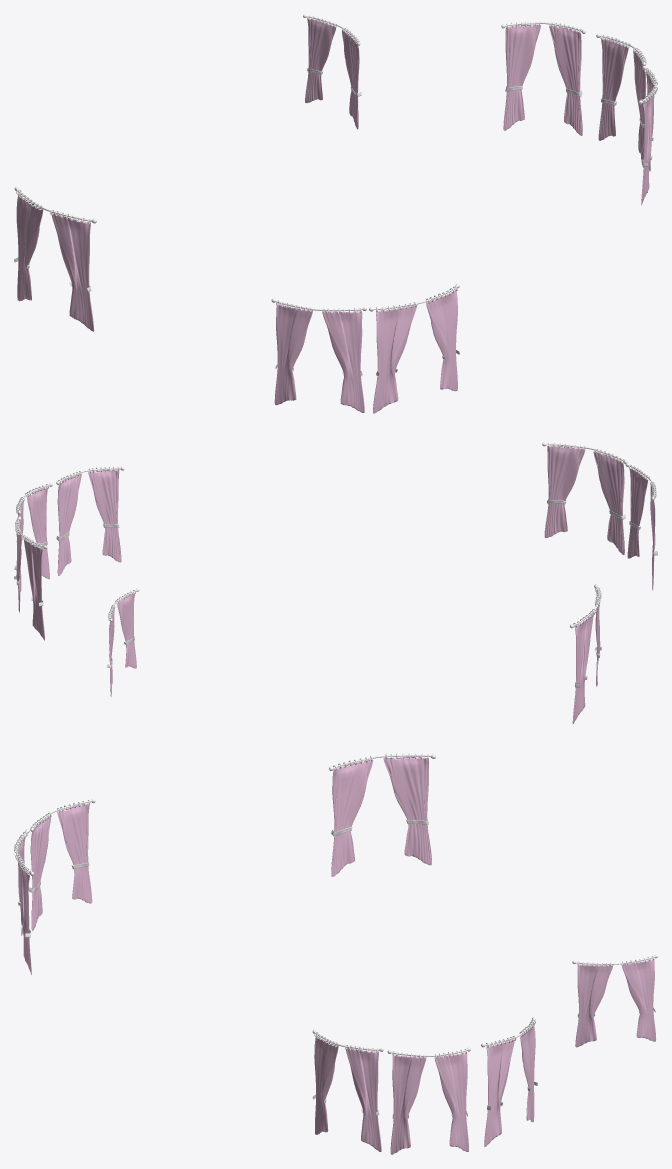
Rendered from verhot.fbx.
3 renders of one model, top to bottom at view 1: azimuth 30°, elevation 25°; view 2: azimuth 150°, elevation 25°; view 3: azimuth 270°, elevation 25°, orthographic. The views are drawn at different scales.
Parts seen in each view (by area): view 1: Collection 1.001|curtain.001|Dupli|, curtain.001, Collection 1.002|curtain.001|Dupli|, Collection 1.005|curtain.001|Dupli|, Collection 1.006|curtain.001|Dupli|, Collection 1.003|curtain.001|Dupli|, Collection 1.004|curtain.001|Dupli|; view 2: curtain.001, Collection 1.004|curtain.001|Dupli|, Collection 1.002|curtain.001|Dupli|, Collection 1.001|curtain.001|Dupli|, Collection 1.005|curtain.001|Dupli|, Collection 1.003|curtain.001|Dupli|, Collection 1.006|curtain.001|Dupli|; view 3: Collection 1.002|curtain.001|Dupli|, Collection 1.003|curtain.001|Dupli|, Collection 1.004|curtain.001|Dupli|, Collection 1.006|curtain.001|Dupli|, Collection 1.001|curtain.001|Dupli|, Collection 1.005|curtain.001|Dupli|, curtain.001.
Part boxes in pixels (x1,y1,x2,y2): Collection 1.001|curtain.001|Dupli|: (274,303,364,412); curtain.001: (373,289,457,413); Collection 1.002|curtain.001|Dupli|: (16,193,93,331); Collection 1.005|curtain.001|Dupli|: (503,24,582,135); Collection 1.006|curtain.001|Dupli|: (305,18,359,129); Collection 1.003|curtain.001|Dupli|: (598,38,646,167); Collection 1.004|curtain.001|Dupli|: (641,71,654,205); curtain.001: (544,445,624,554); Collection 1.004|curtain.001|Dupli|: (57,470,121,575); Collection 1.002|curtain.001|Dupli|: (572,591,600,723); Collection 1.001|curtain.001|Dupli|: (627,467,655,590); Collection 1.005|curtain.001|Dupli|: (16,523,44,640); Collection 1.003|curtain.001|Dupli|: (16,487,49,601); Collection 1.006|curtain.001|Dupli|: (109,593,136,696); Collection 1.002|curtain.001|Dupli|: (331,757,431,876); Collection 1.003|curtain.001|Dupli|: (390,1052,468,1154); Collection 1.004|curtain.001|Dupli|: (314,1035,381,1151); Collection 1.006|curtain.001|Dupli|: (575,959,655,1047); Collection 1.001|curtain.001|Dupli|: (30,803,92,930); Collection 1.005|curtain.001|Dupli|: (484,1023,535,1146); curtain.001: (17,835,31,974).
Bounding box in the file's own units: 21.32 × 3.7 × 19.52.
